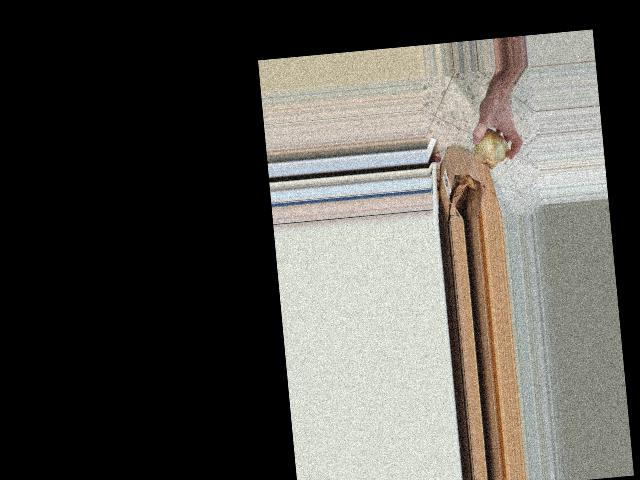onion: (470, 124, 511, 171)
